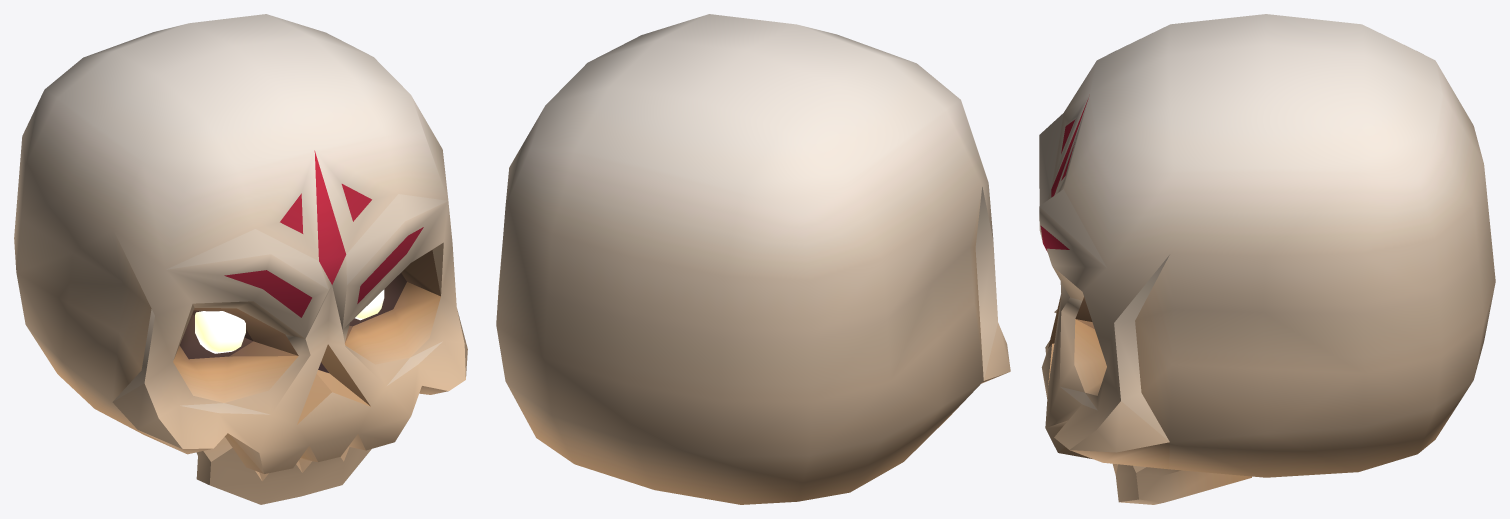
File: sugar_skull.glb
3 renders of one model, left to right at view 1: azimuth 30°, elevation 25°; view 2: azimuth 150°, elevation 25°; view 3: azimuth 270°, elevation 25°, orthographic. The views are drawn at different scales.
Visible parts, largest first — view 1: Skeleton_Mage_Skull, Skeleton_Mage_Jaw, Skeleton_Mage_Eyes; view 2: Skeleton_Mage_Skull; view 3: Skeleton_Mage_Skull, Skeleton_Mage_Jaw.
Boxes of the visible parts, <box> form: Skeleton_Mage_Skull: <box>14,14,467,473</box>; Skeleton_Mage_Jaw: <box>196,436,371,504</box>; Skeleton_Mage_Eyes: <box>195,289,384,353</box>; Skeleton_Mage_Skull: <box>496,14,1010,504</box>; Skeleton_Mage_Skull: <box>1039,14,1495,477</box>; Skeleton_Mage_Jaw: <box>1112,464,1251,504</box>.
Bounding box in the file's own units: 0.8709 × 0.9728 × 0.9122.
2 materials, 1 textured.
